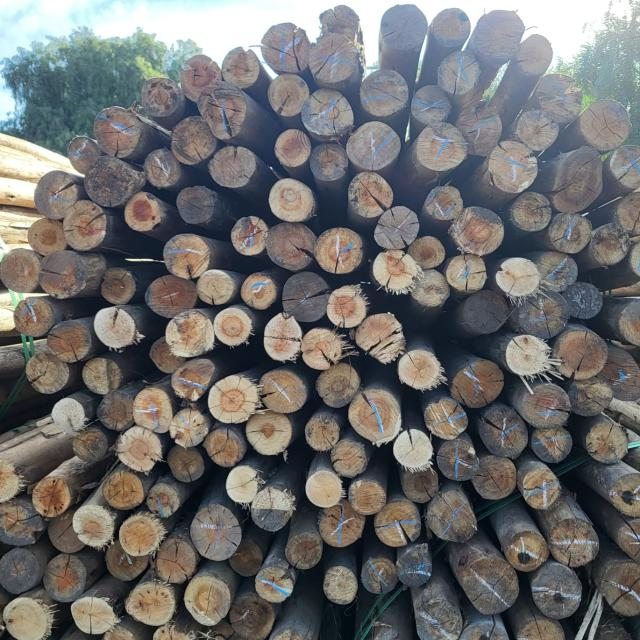package: (0, 6, 640, 600), (0, 450, 320, 640), (350, 453, 640, 640)
